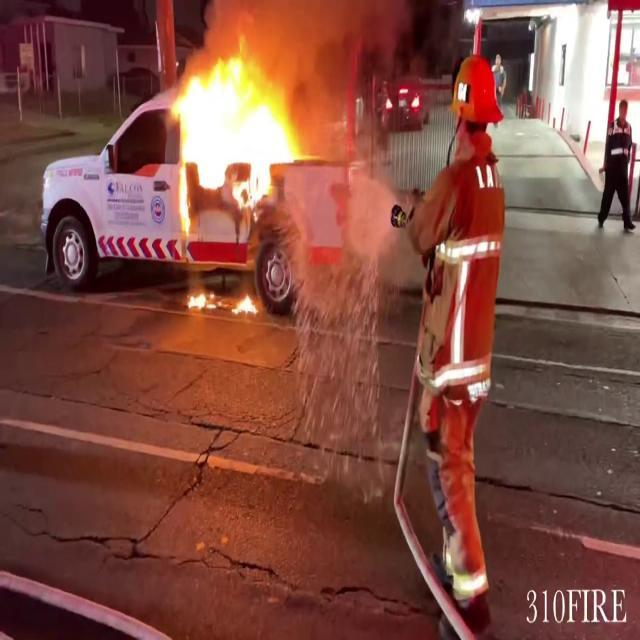Fire: (167, 38, 303, 246), (184, 279, 261, 317)
